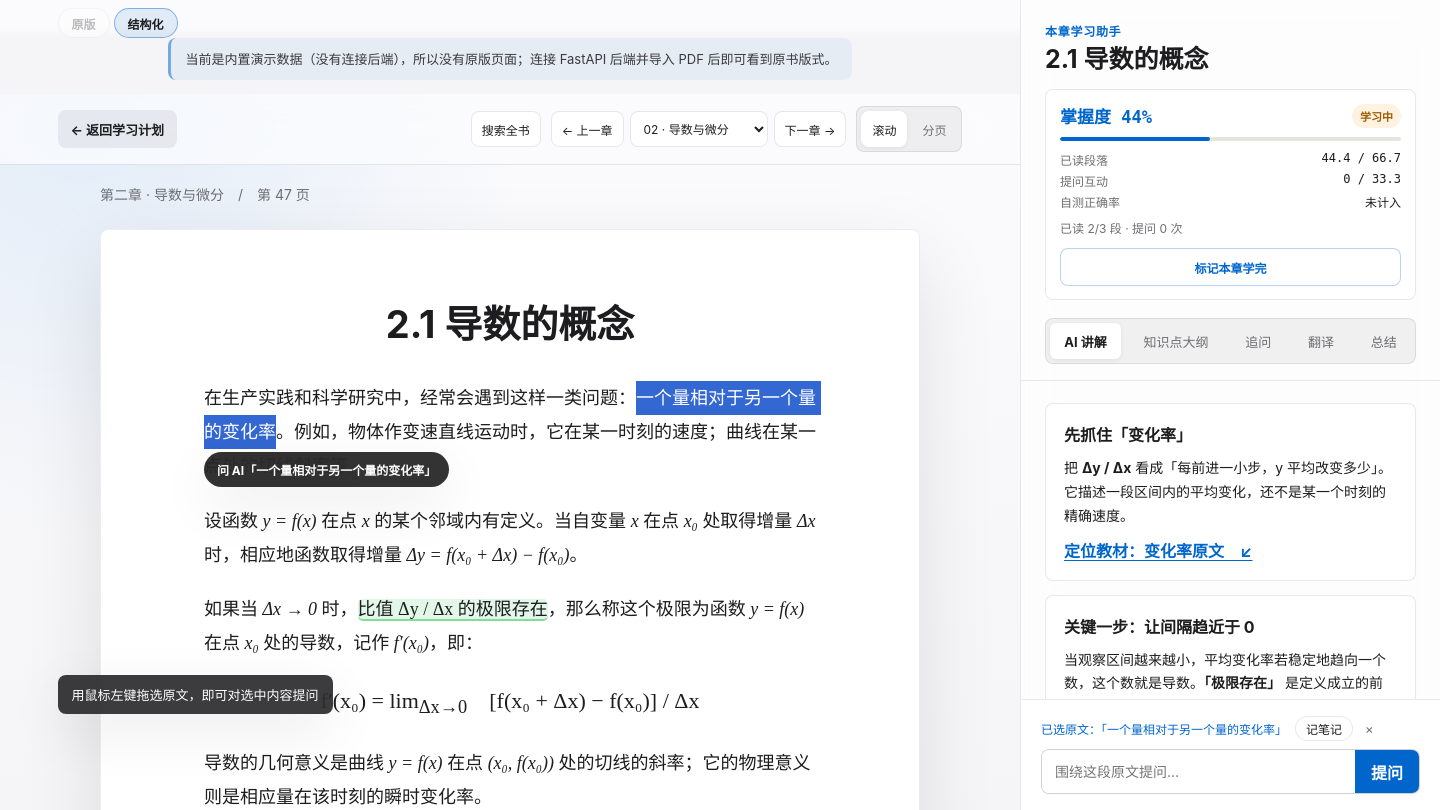
Test: 划词问答 › 拖选原文后提问，回答逐块补齐并附带教材依据
Check: the element with test id "selection-label" shows "已选原文", box [1041,722,1101,737]
Type "这段想表达什么？" into the field named "提问输入框" at (1198, 772), box [1042,750,1355,793]
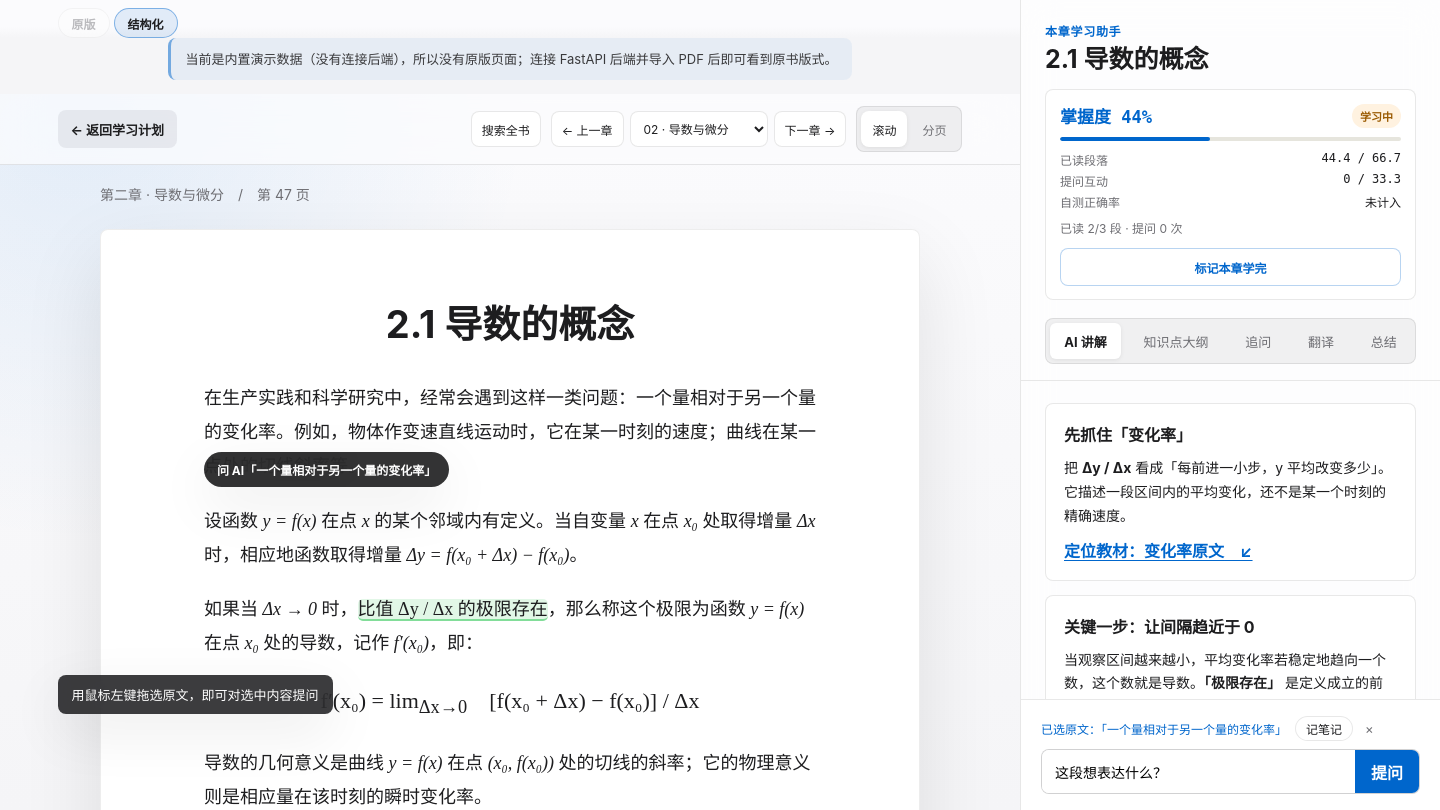
Click the button "提问" at (1387, 772), box [1355,750,1419,793]
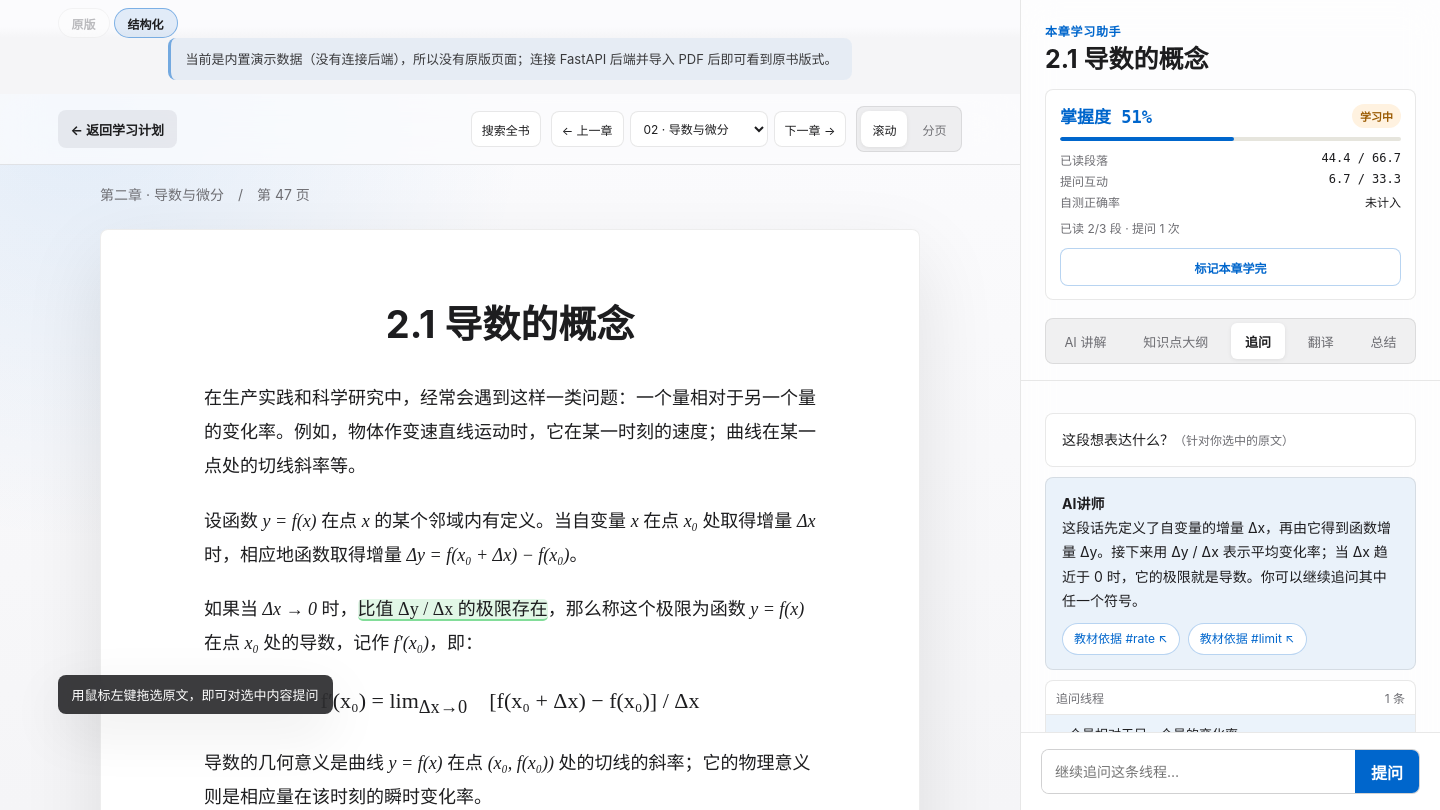
Check: the element with test id "answer" shows "AI讲师", box [1062,495,1104,512]
Check: the element with test id "answer" shows "Δy / Δx", box [1062,519,1391,608]
Check: the button "教材依据 #rate ↖" is shown, box [1062,623,1180,655]
